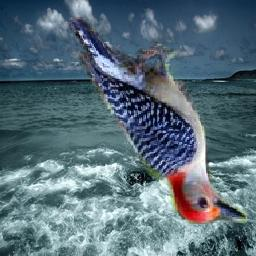Woodpecker: (69, 18, 247, 225)
